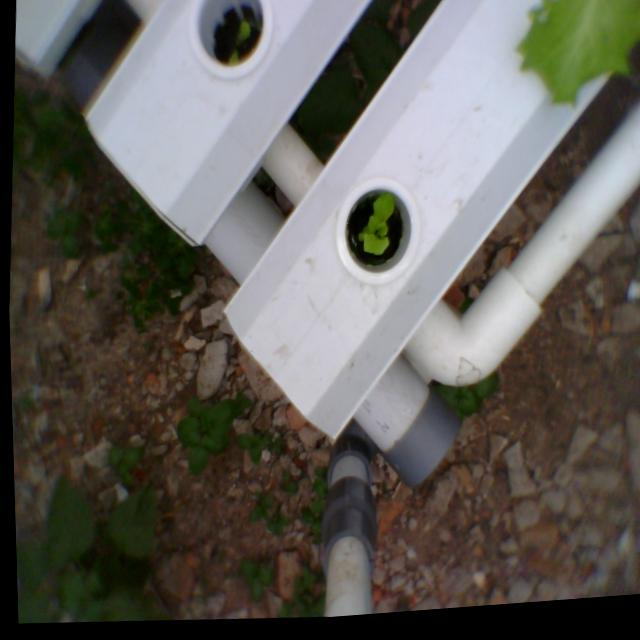FN: (357, 179, 401, 276)
